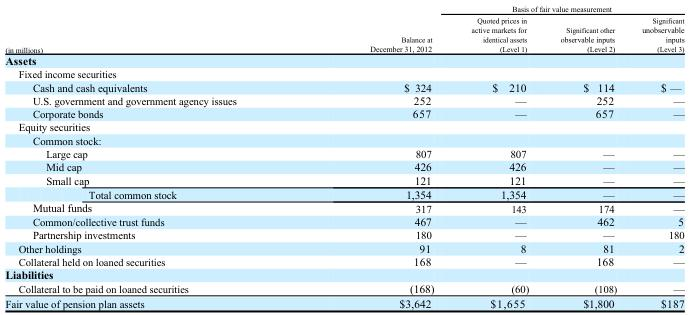table: (4, 4, 683, 309)
table column: (4, 4, 302, 309), (302, 4, 452, 309), (452, 4, 543, 309), (543, 4, 628, 309), (628, 4, 683, 309)
table column header: (4, 4, 683, 53)
table projected row header: (4, 53, 683, 67), (4, 267, 683, 281), (4, 67, 683, 80), (4, 120, 683, 133), (4, 133, 683, 146)
table row: (4, 14, 683, 53), (4, 53, 683, 67), (4, 106, 683, 120), (4, 159, 683, 173), (4, 186, 683, 200), (4, 200, 683, 214), (4, 214, 683, 228), (4, 267, 683, 281), (4, 281, 683, 295), (4, 295, 683, 309), (4, 67, 683, 80), (4, 80, 683, 93), (4, 93, 683, 106), (4, 120, 683, 133), (4, 133, 683, 146), (4, 146, 683, 159), (4, 173, 683, 186), (4, 228, 683, 241), (4, 241, 683, 254), (4, 254, 683, 267), (4, 4, 683, 14)
table spanning cell: (4, 4, 302, 53), (302, 4, 452, 53), (452, 4, 683, 14)
